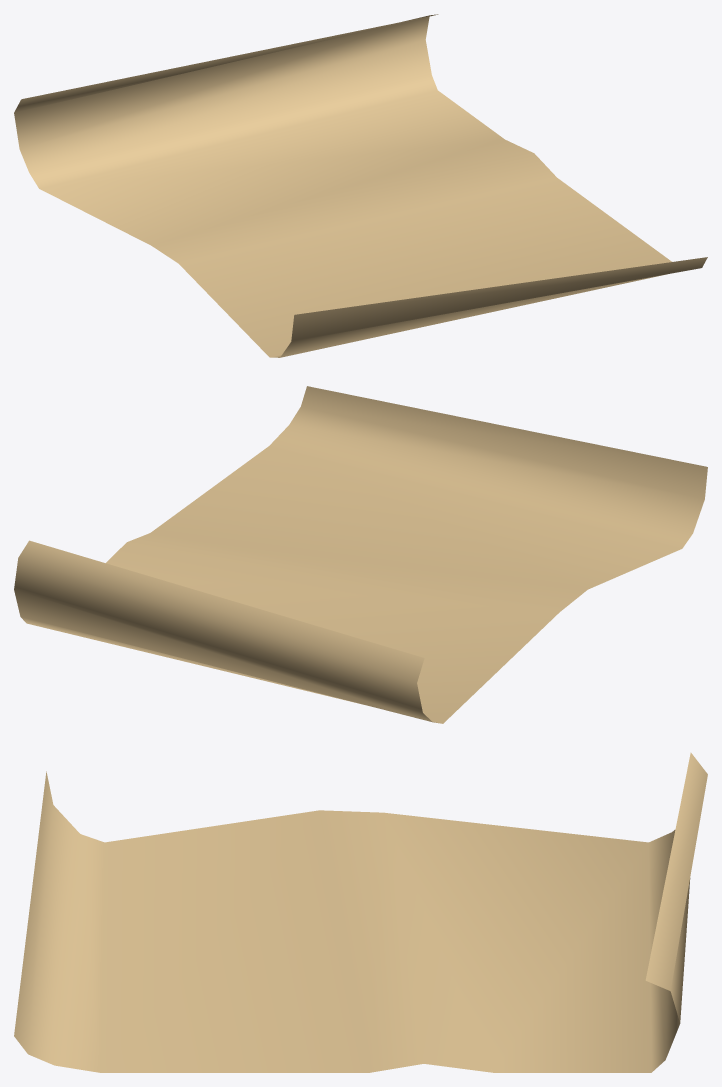
File: Parchment.FBX
3 views of the same model, one above another, from view 1: azimuth 30°, elevation 25°; view 2: azimuth 150°, elevation 25°; view 3: azimuth 270°, elevation 25° (orthographic). The views are drawn at different scales.
Parts seen in each view (by area): view 1: Parchment; view 2: Parchment; view 3: Parchment.
Boxes of the visible parts, x1,y1,x2,y2 form: Parchment: (14,14,707,357); Parchment: (14,386,707,723); Parchment: (14,752,707,1072).
Size of the model in its own units: 31.5 by 40.1 by 5.88.
